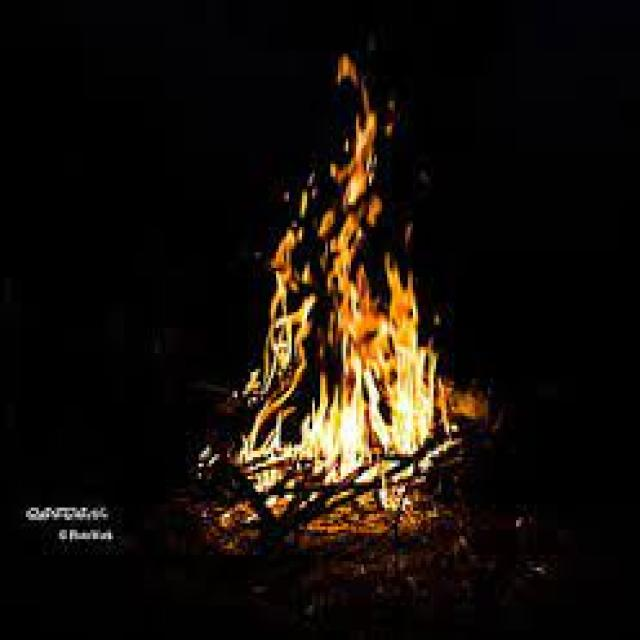fire: (241, 293, 317, 459), (384, 251, 435, 454), (328, 212, 384, 384), (302, 370, 376, 484), (329, 90, 378, 205), (269, 225, 311, 291)
